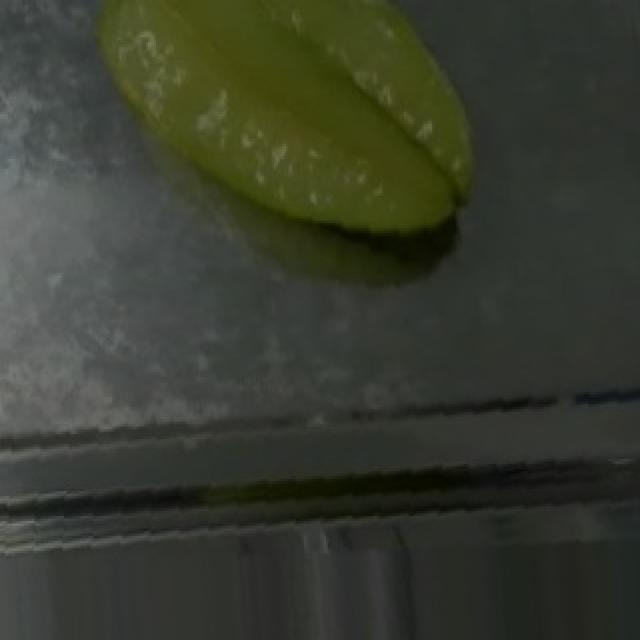fruit: (80, 0, 512, 273)
